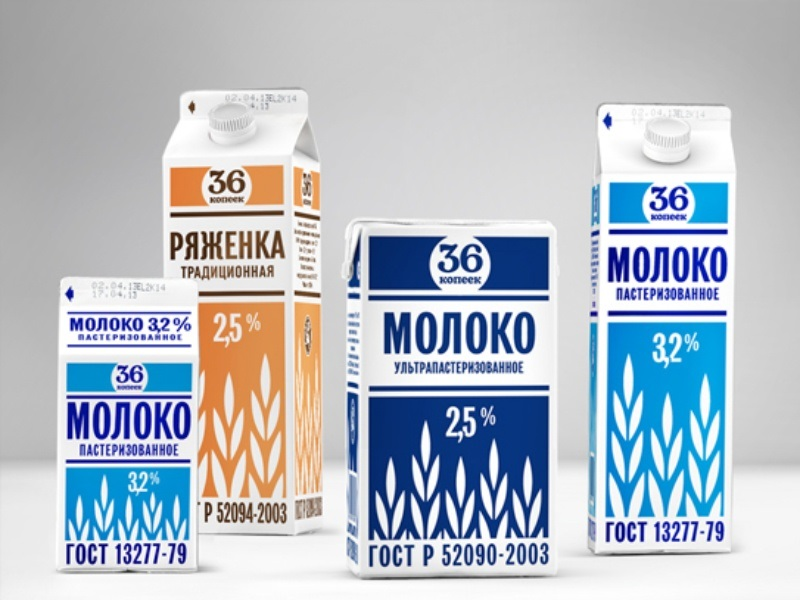milk: (553, 65, 761, 565), (321, 207, 569, 587), (41, 262, 214, 589)
